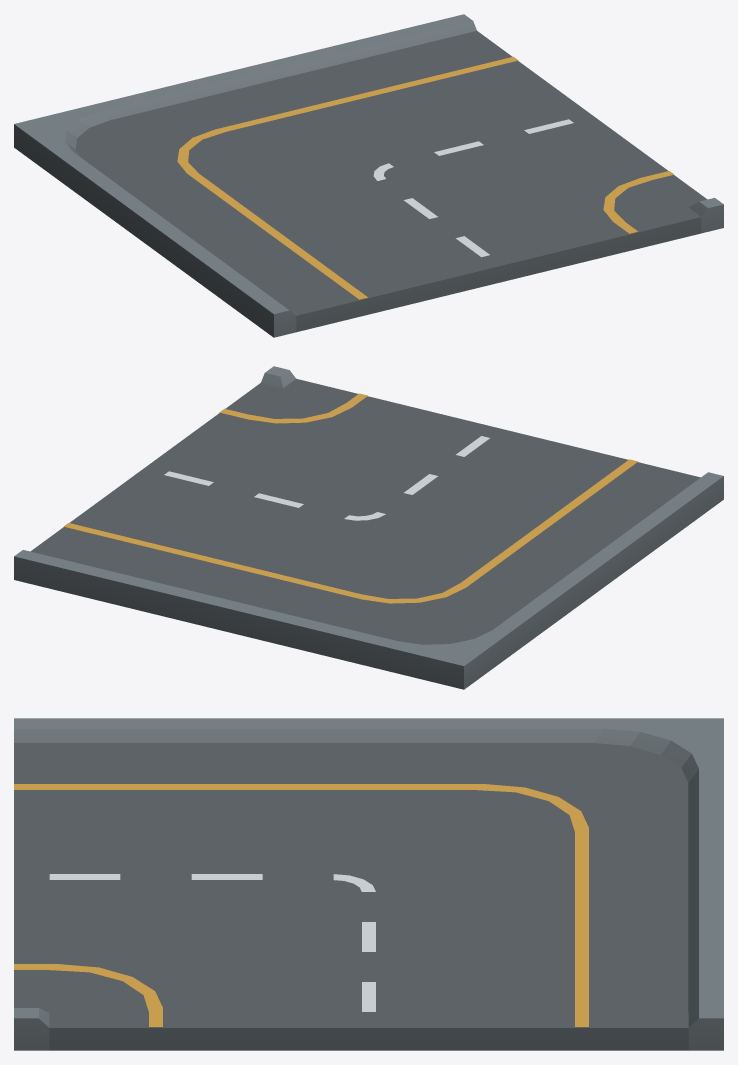
Rendered from road_corner.obj.
3 renders of one model, top to bottom at view 1: azimuth 30°, elevation 25°; view 2: azimuth 150°, elevation 25°; view 3: azimuth 270°, elevation 25°, orthographic. The views are drawn at different scales.
Bounding box in the file's own units: 2 × 0.1 × 2.
1 material, 1 textured.
